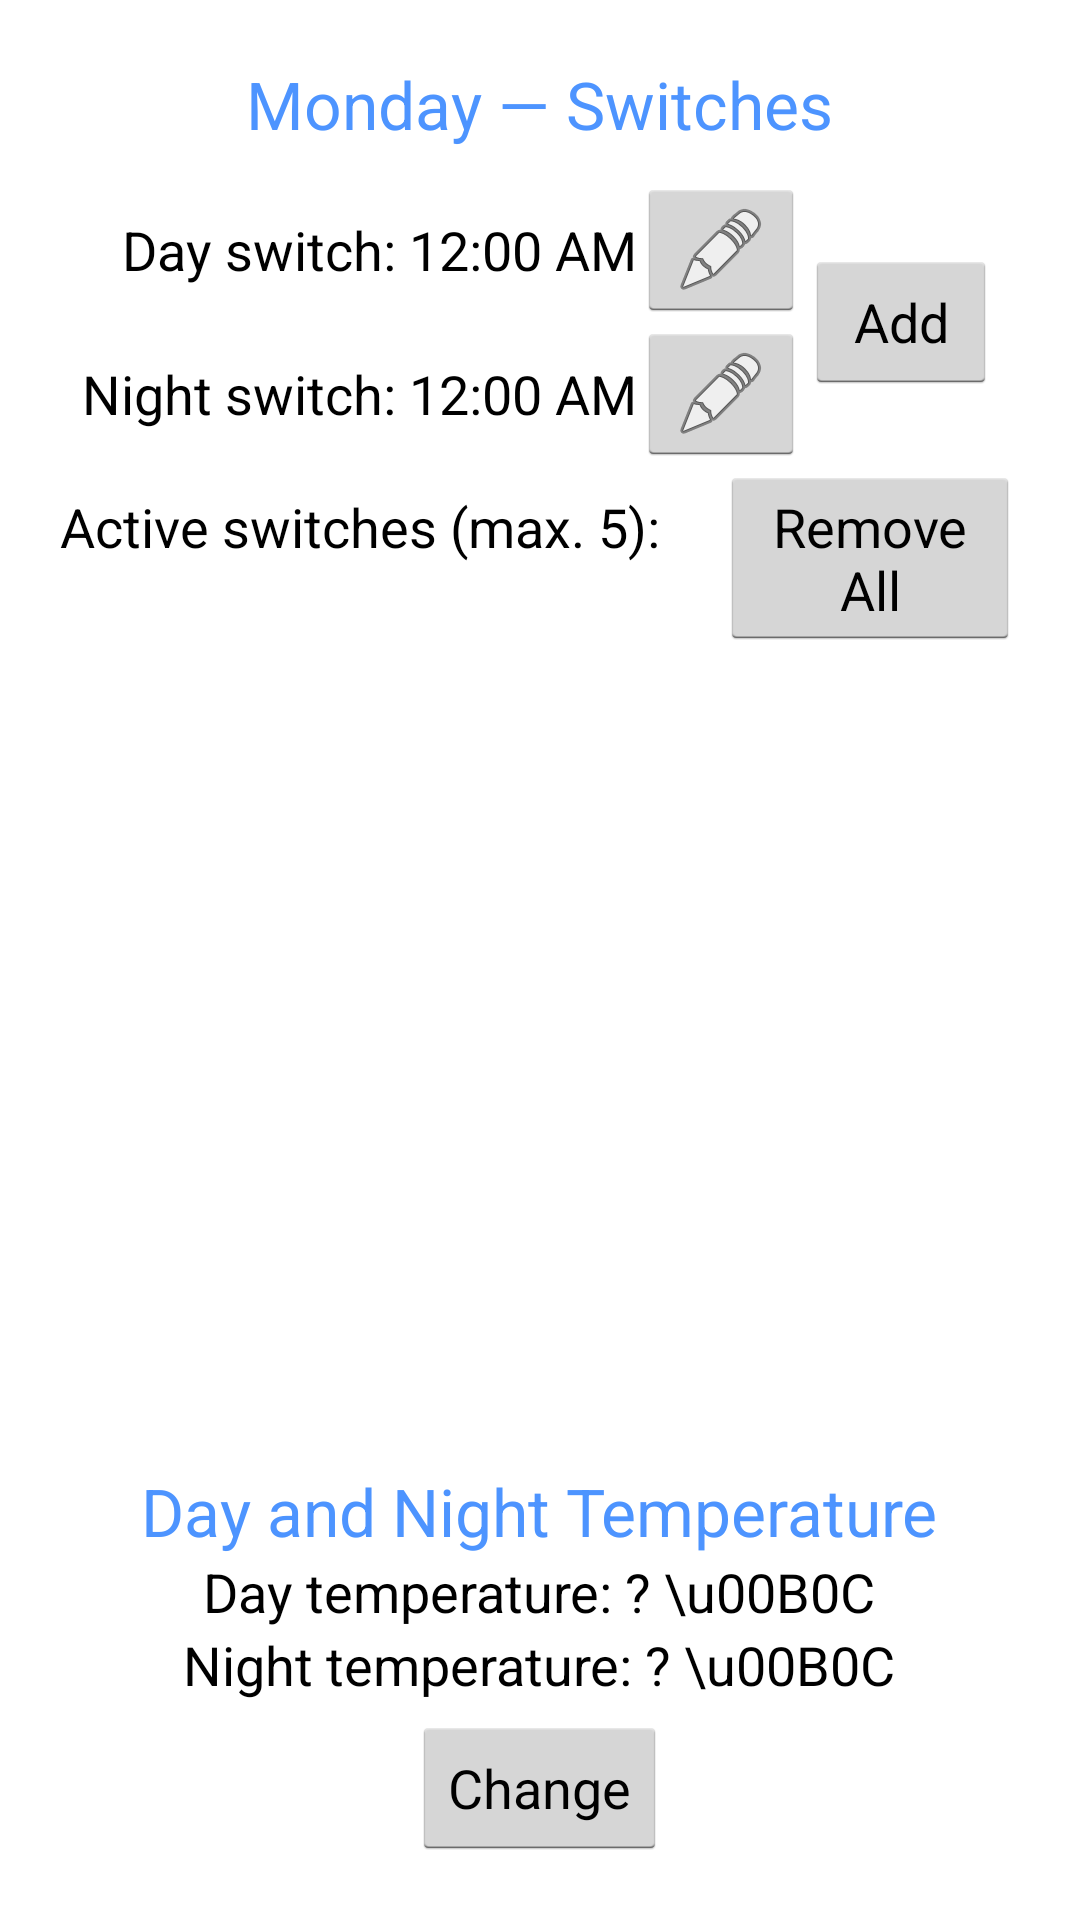

Icons on this 1080*1920 Android screen, each with its box as (x1, y1, x2, y2):
edit: (649, 191, 793, 311), (649, 335, 793, 455)
